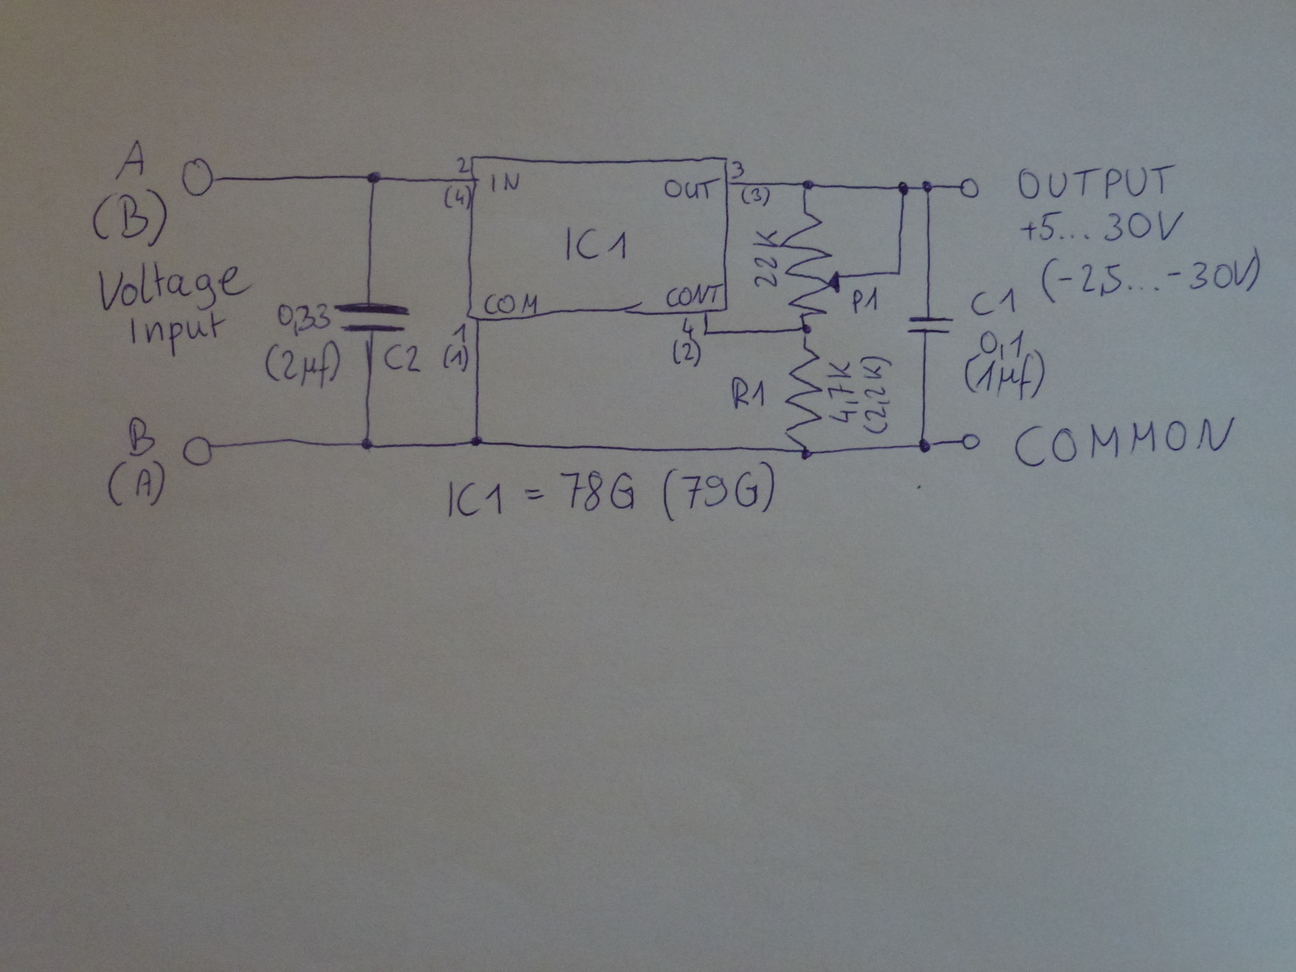capacitor.unpolarized: (330, 300, 413, 335), (904, 312, 955, 337)
integrated_circuit: (464, 151, 737, 323)
junction: (914, 434, 935, 454), (357, 434, 377, 454), (362, 168, 383, 187), (894, 180, 912, 198), (796, 322, 815, 338), (793, 446, 813, 461), (918, 179, 936, 196), (467, 433, 484, 450), (800, 177, 815, 193), (893, 266, 904, 278), (701, 327, 712, 338)
resistor: (781, 343, 824, 442)
resistor.adjustable: (778, 207, 845, 321)
terminal: (179, 155, 219, 200), (179, 430, 215, 469), (955, 175, 982, 200), (958, 429, 983, 452)
text: (444, 457, 778, 526), (1011, 414, 1238, 471), (1040, 245, 1262, 303), (95, 255, 257, 313), (1016, 159, 1180, 201), (1019, 206, 1188, 244), (84, 186, 171, 247), (121, 308, 227, 358), (964, 346, 1047, 403), (263, 341, 341, 389), (106, 459, 168, 508), (859, 354, 895, 436), (563, 222, 629, 263), (826, 360, 859, 424), (275, 301, 332, 336), (108, 135, 149, 181), (752, 226, 781, 290), (978, 325, 1027, 361), (663, 280, 722, 309), (968, 285, 1018, 318), (727, 374, 768, 412), (124, 412, 157, 459), (662, 175, 721, 200), (483, 290, 538, 315), (382, 343, 429, 373), (849, 284, 883, 317), (671, 337, 703, 369), (485, 169, 522, 195), (440, 343, 471, 373), (741, 184, 772, 207), (446, 183, 469, 208), (451, 320, 469, 343), (680, 319, 699, 338), (454, 153, 471, 175), (730, 160, 746, 177)
